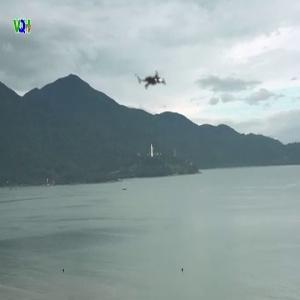drone: (105, 30, 208, 133)
